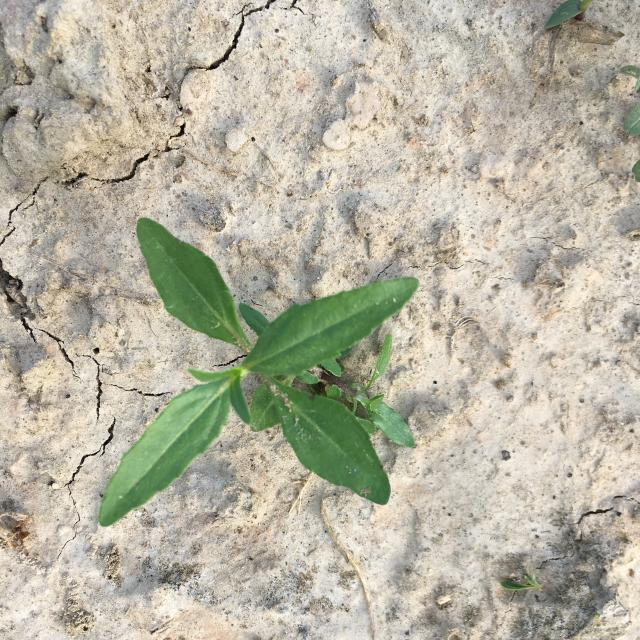Eclipta: (98, 217, 420, 527)
